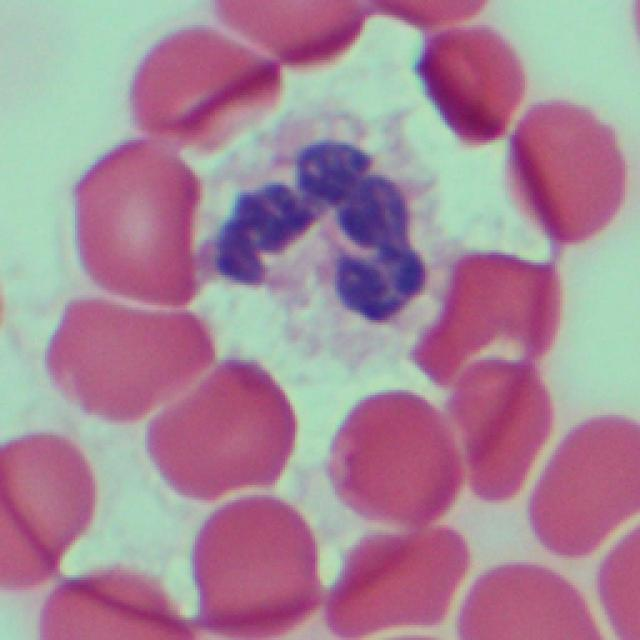RBC: (436, 246, 546, 524), (66, 130, 202, 316), (145, 353, 296, 513), (125, 12, 272, 171), (326, 379, 464, 536), (322, 495, 468, 640), (180, 491, 320, 639), (503, 94, 630, 243), (414, 4, 527, 165), (40, 294, 164, 432), (522, 416, 637, 562), (2, 425, 97, 558), (210, 0, 372, 70), (594, 511, 640, 637)
WBC: (216, 139, 419, 322)
